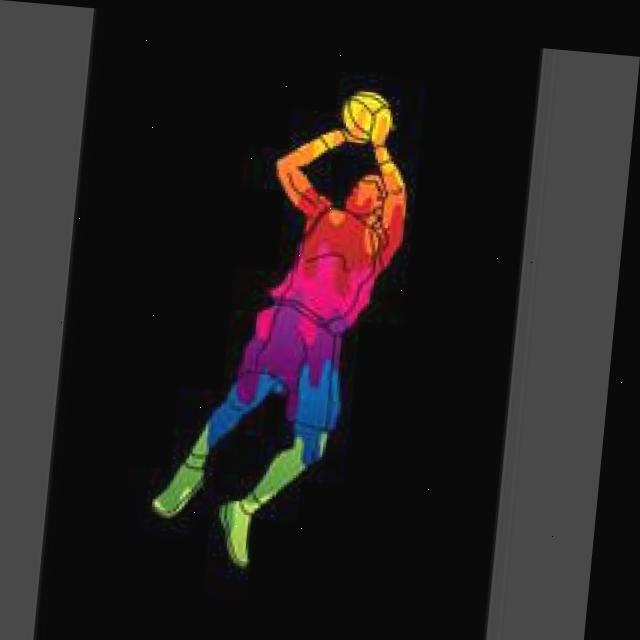basketball: (339, 90, 395, 143)
